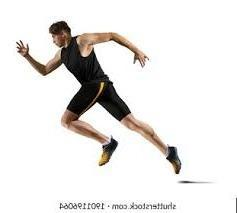Human: (11, 6, 203, 191)
